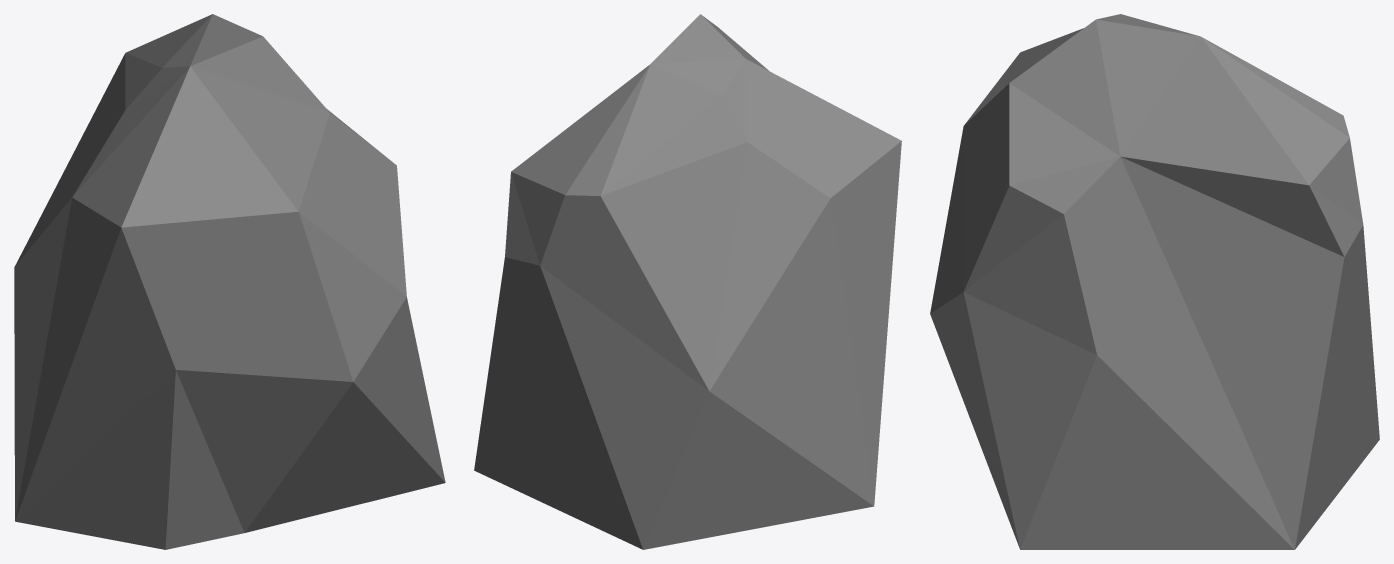
The model's file is stone01.fbx.
3 views of the same model, side by side, from view 1: azimuth 30°, elevation 25°; view 2: azimuth 150°, elevation 25°; view 3: azimuth 270°, elevation 25° (orthographic). The views are drawn at different scales.
Parts seen in each view (by area): view 1: stone01; view 2: stone01; view 3: stone01.
Boxes of the visible parts, x1,y1,x2,y2 form: stone01: [14, 14, 445, 549]; stone01: [474, 14, 901, 549]; stone01: [930, 14, 1379, 549].
Size of the model in its own units: 162 by 202 by 172.
